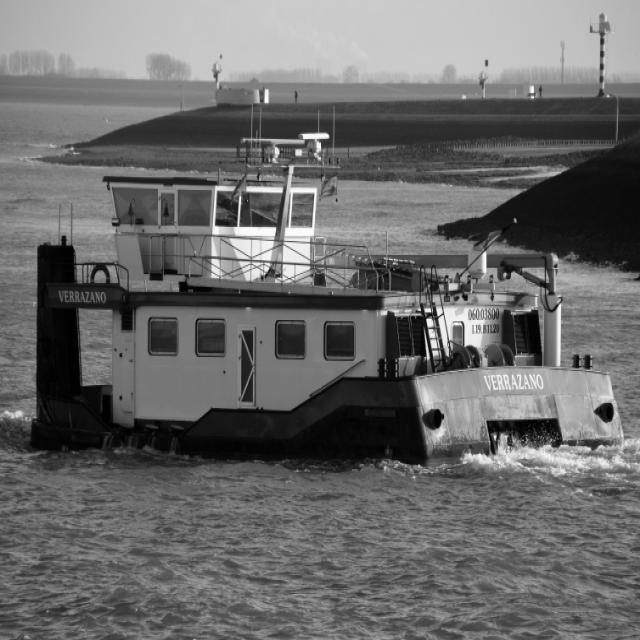tugboat: (27, 103, 629, 479)
